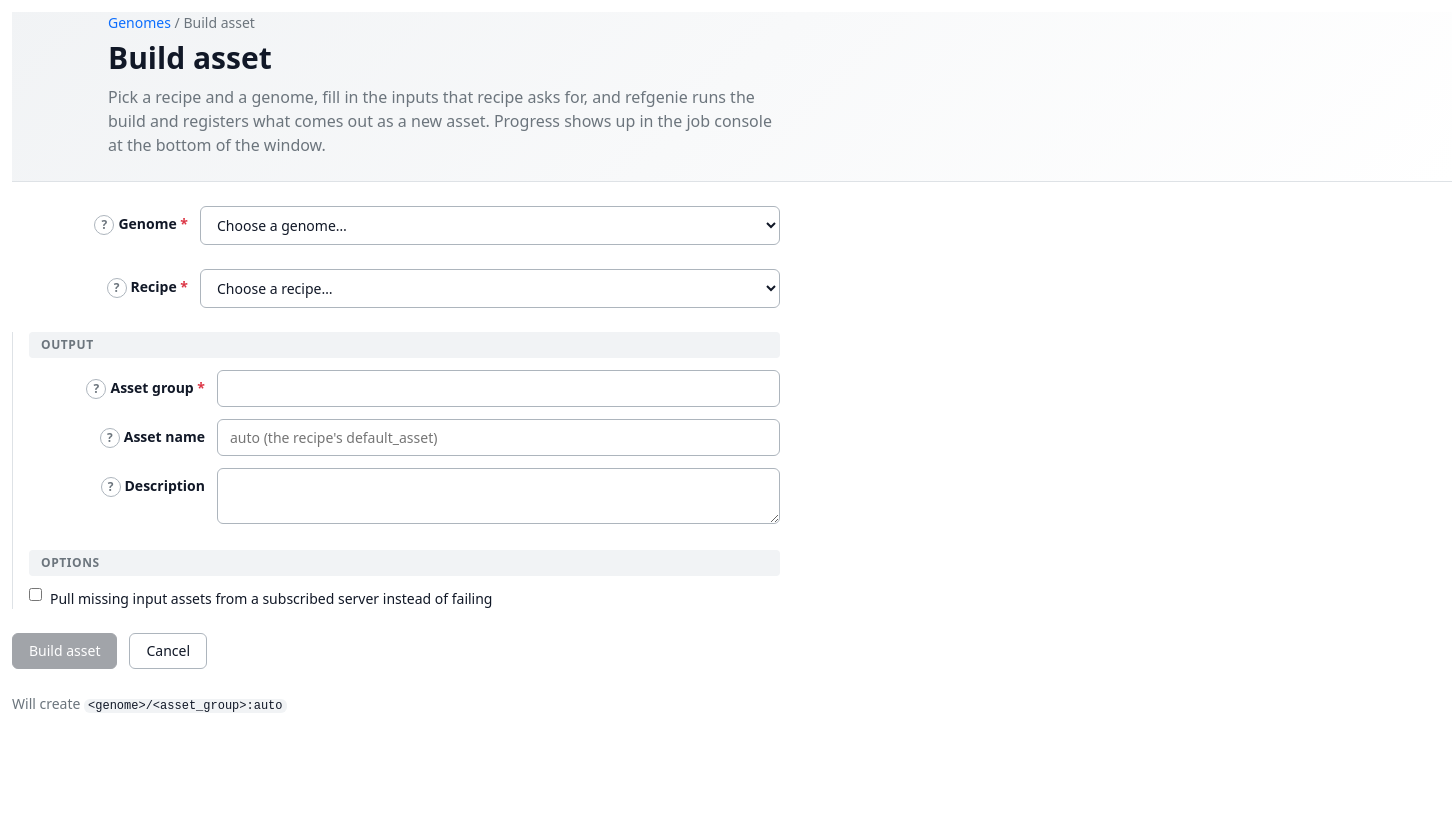
Test case: BuildPage › turns Asset name into a required field when preflight cannot name the asset
Select "hg38" in the dropdown labelled "Genome *" at [490, 226], box [200,206,780,245]
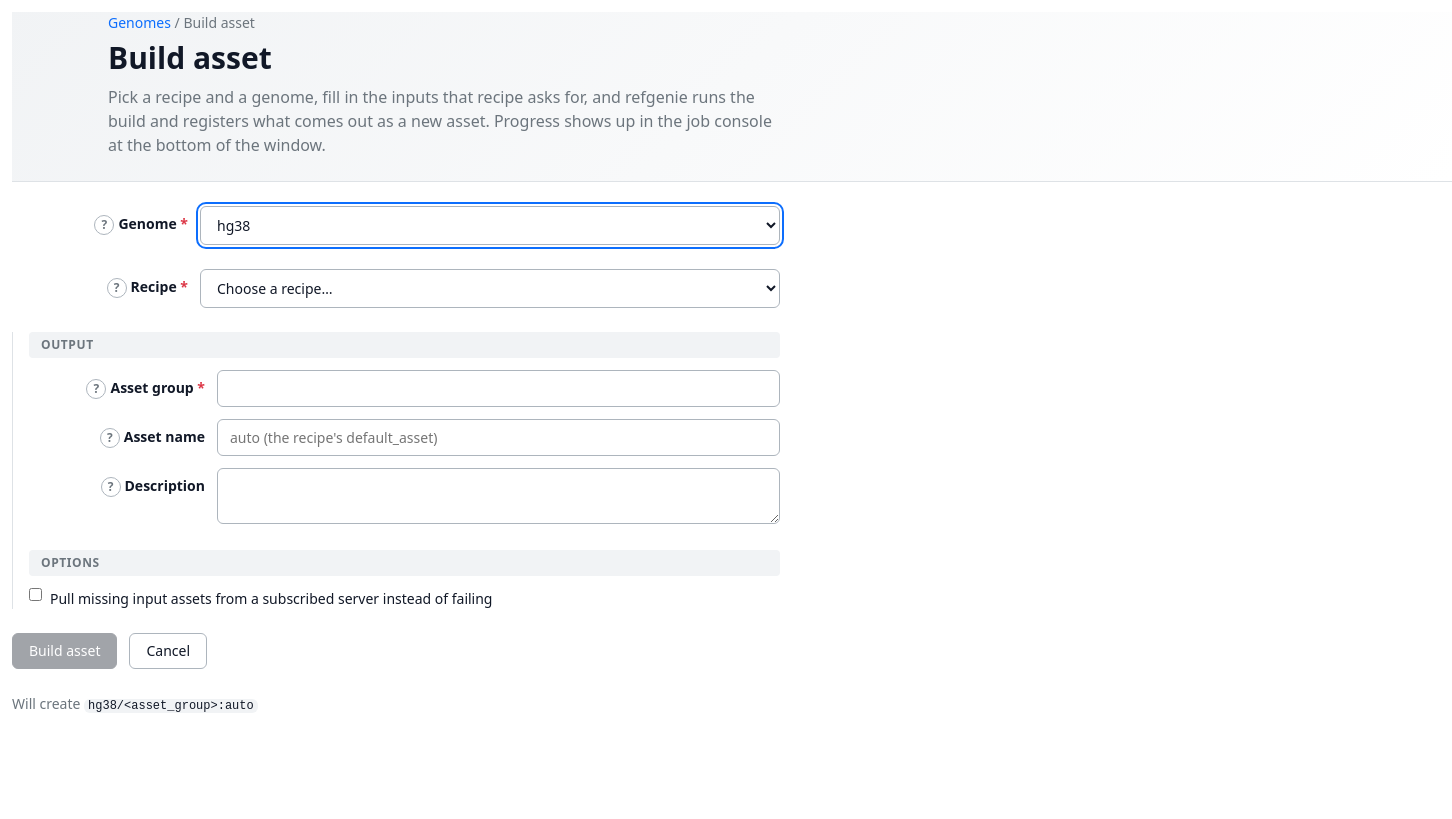
Select "bowtie2_index" in the dropdown labelled "Recipe *" at [490, 288], box [200,269,780,308]
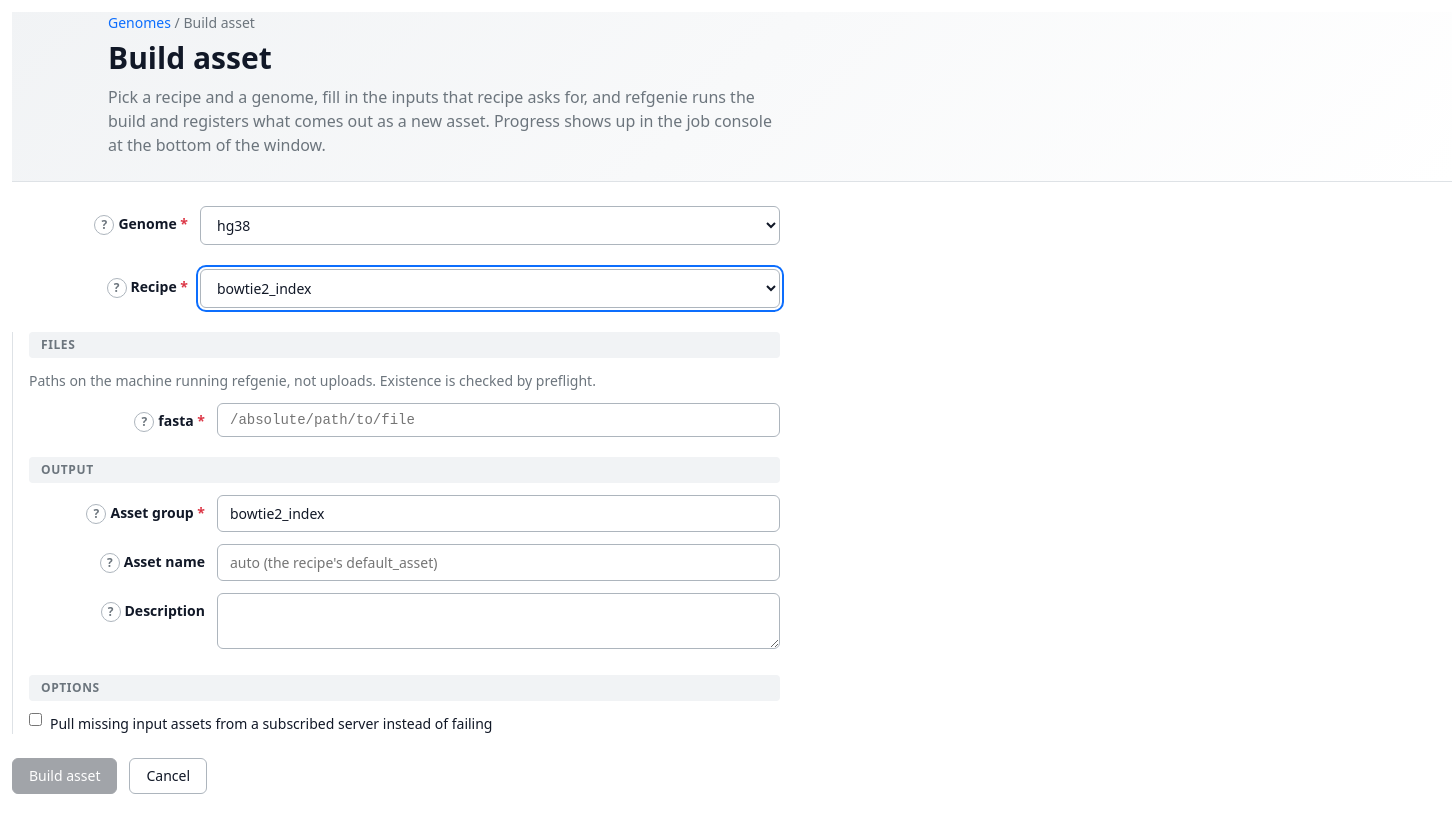
Type "/data/hg38.fa" into the field labelled "fasta *".
click(498, 420); type("/data/hg38.fa")  # box [217,403,780,437]
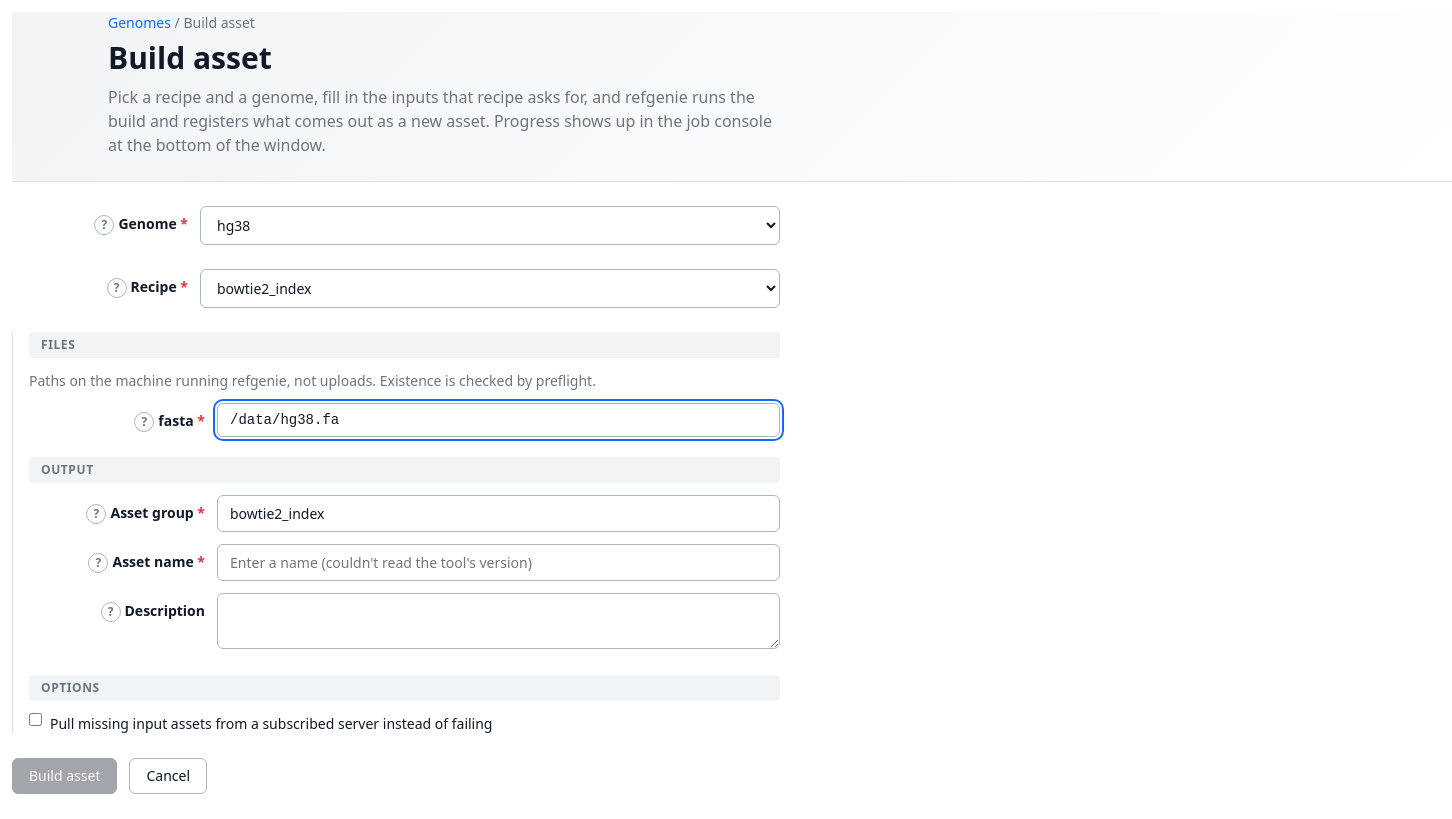
Expected: the button "Build asset" is disabled, [12,758,118,794]
Note: Typing a name lifts the requirement once preflight comes back ok.
Type "my_name" into the field labelled "Asset name *".
click(498, 562); type("my_name")  # box [217,544,780,581]
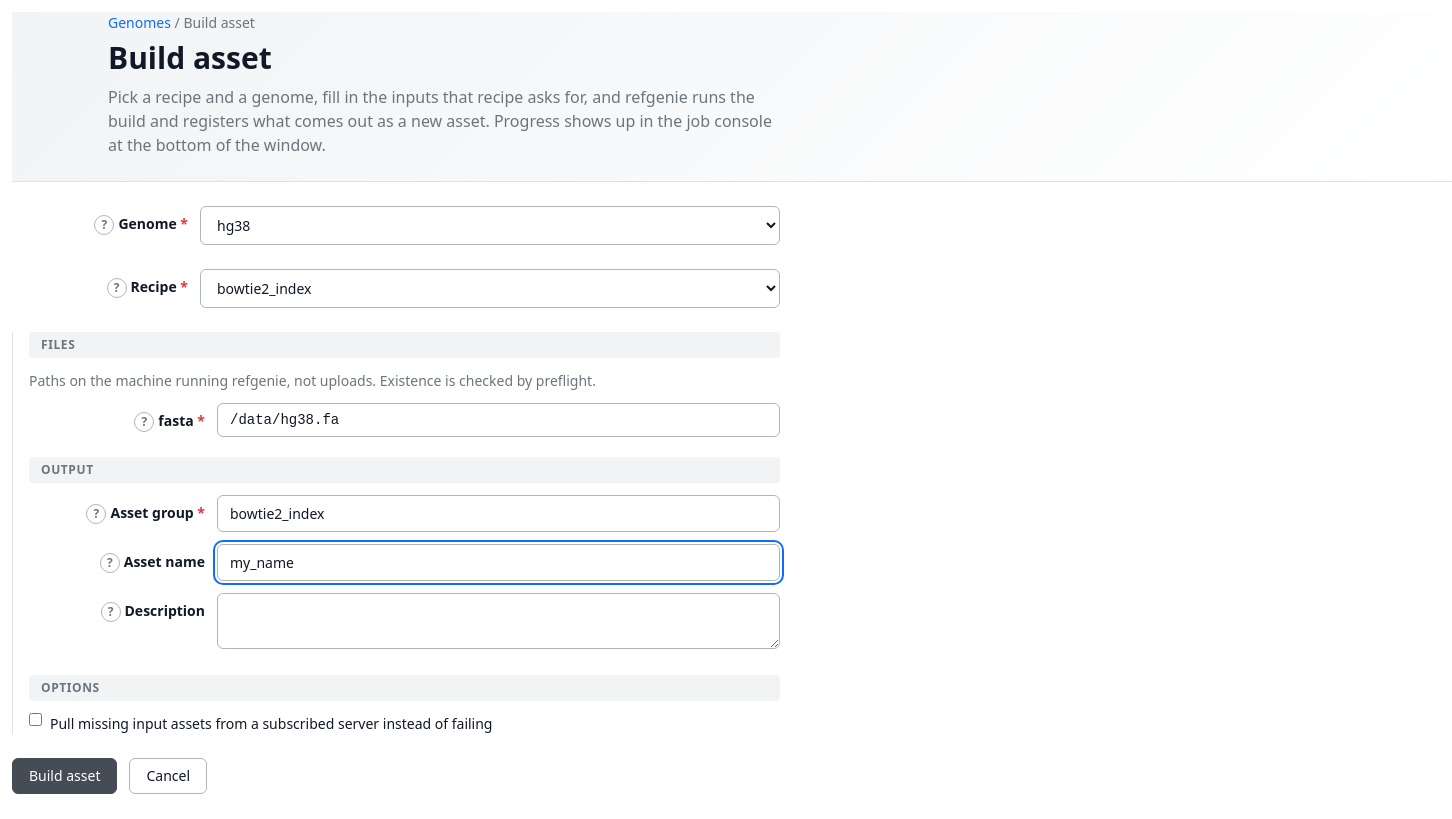
Expected: the field labelled "Asset name *" is not shown
Expected: the button "Build asset" is enabled, [12,758,118,794]
